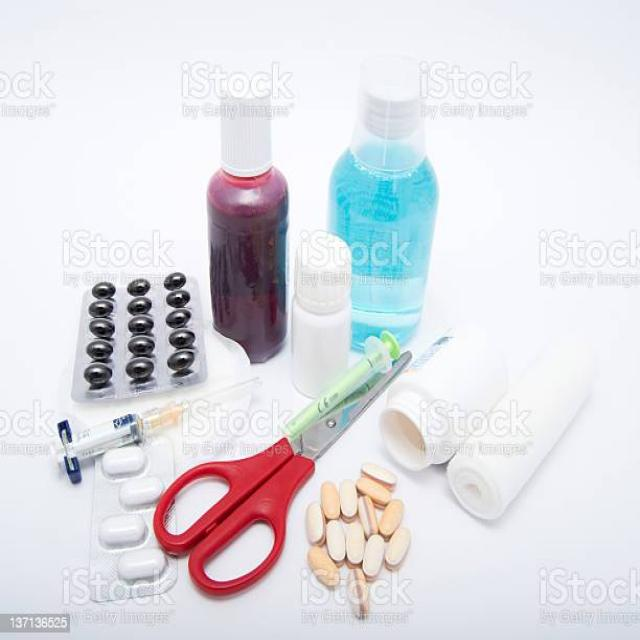B3: (317, 50, 441, 360), (192, 74, 302, 366), (444, 329, 597, 533), (81, 430, 184, 602), (63, 272, 208, 387)
